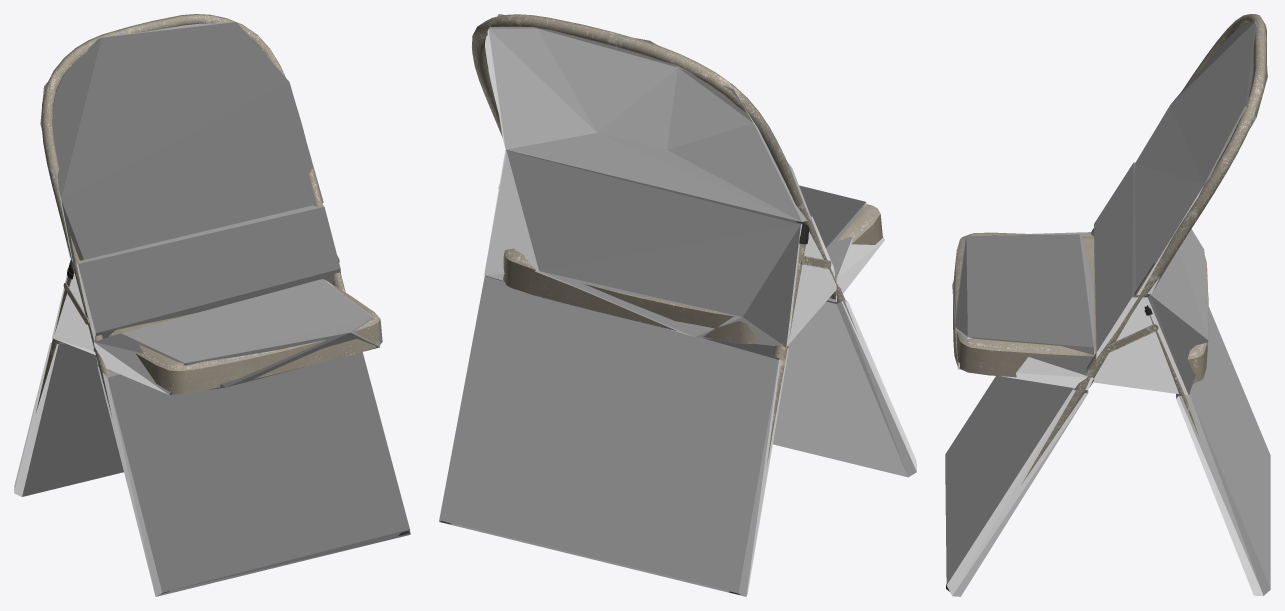
File: SM_FoldingChair_Open.fbx
3 views of the same model, side by side, from view 1: azimuth 30°, elevation 25°; view 2: azimuth 150°, elevation 25°; view 3: azimuth 270°, elevation 25° (orthographic). The views are drawn at different scales.
Parts seen in each view (by area): view 1: SM_FoldingChair_Open_ConvexHulls, SM_FoldingChair_Open; view 2: SM_FoldingChair_Open_ConvexHulls, SM_FoldingChair_Open; view 3: SM_FoldingChair_Open_ConvexHulls, SM_FoldingChair_Open.
Part boxes in pixels (x1,y1,x2,y2): SM_FoldingChair_Open_ConvexHulls: [14, 21, 410, 596]; SM_FoldingChair_Open: [36, 14, 409, 593]; SM_FoldingChair_Open_ConvexHulls: [439, 14, 916, 596]; SM_FoldingChair_Open: [440, 14, 882, 594]; SM_FoldingChair_Open_ConvexHulls: [945, 21, 1270, 596]; SM_FoldingChair_Open: [946, 14, 1269, 591].
Bounding box in the file's own units: 67.23 × 67.52 × 111.
2 materials, 1 textured.
